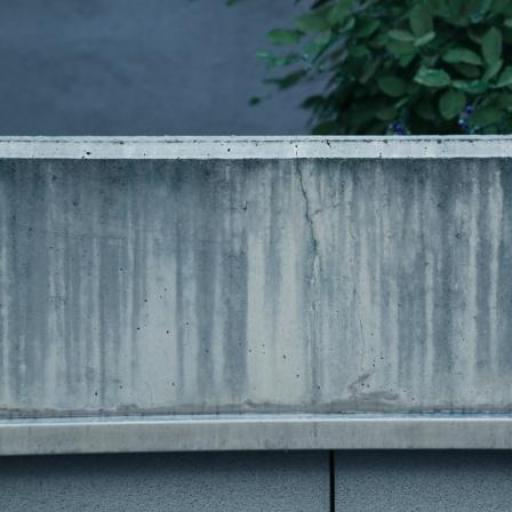spalling: (288, 157, 326, 254), (325, 454, 343, 507)
